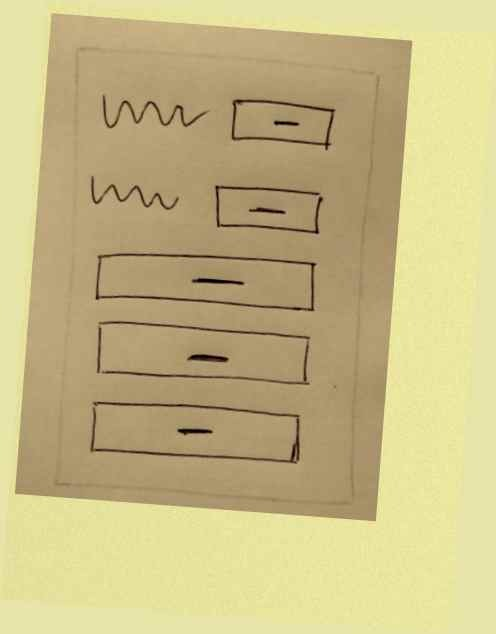button: (86, 240, 326, 320), (89, 315, 316, 392), (80, 394, 307, 471), (206, 168, 331, 245), (221, 89, 347, 165)
text: (95, 85, 215, 146), (81, 159, 201, 220)
